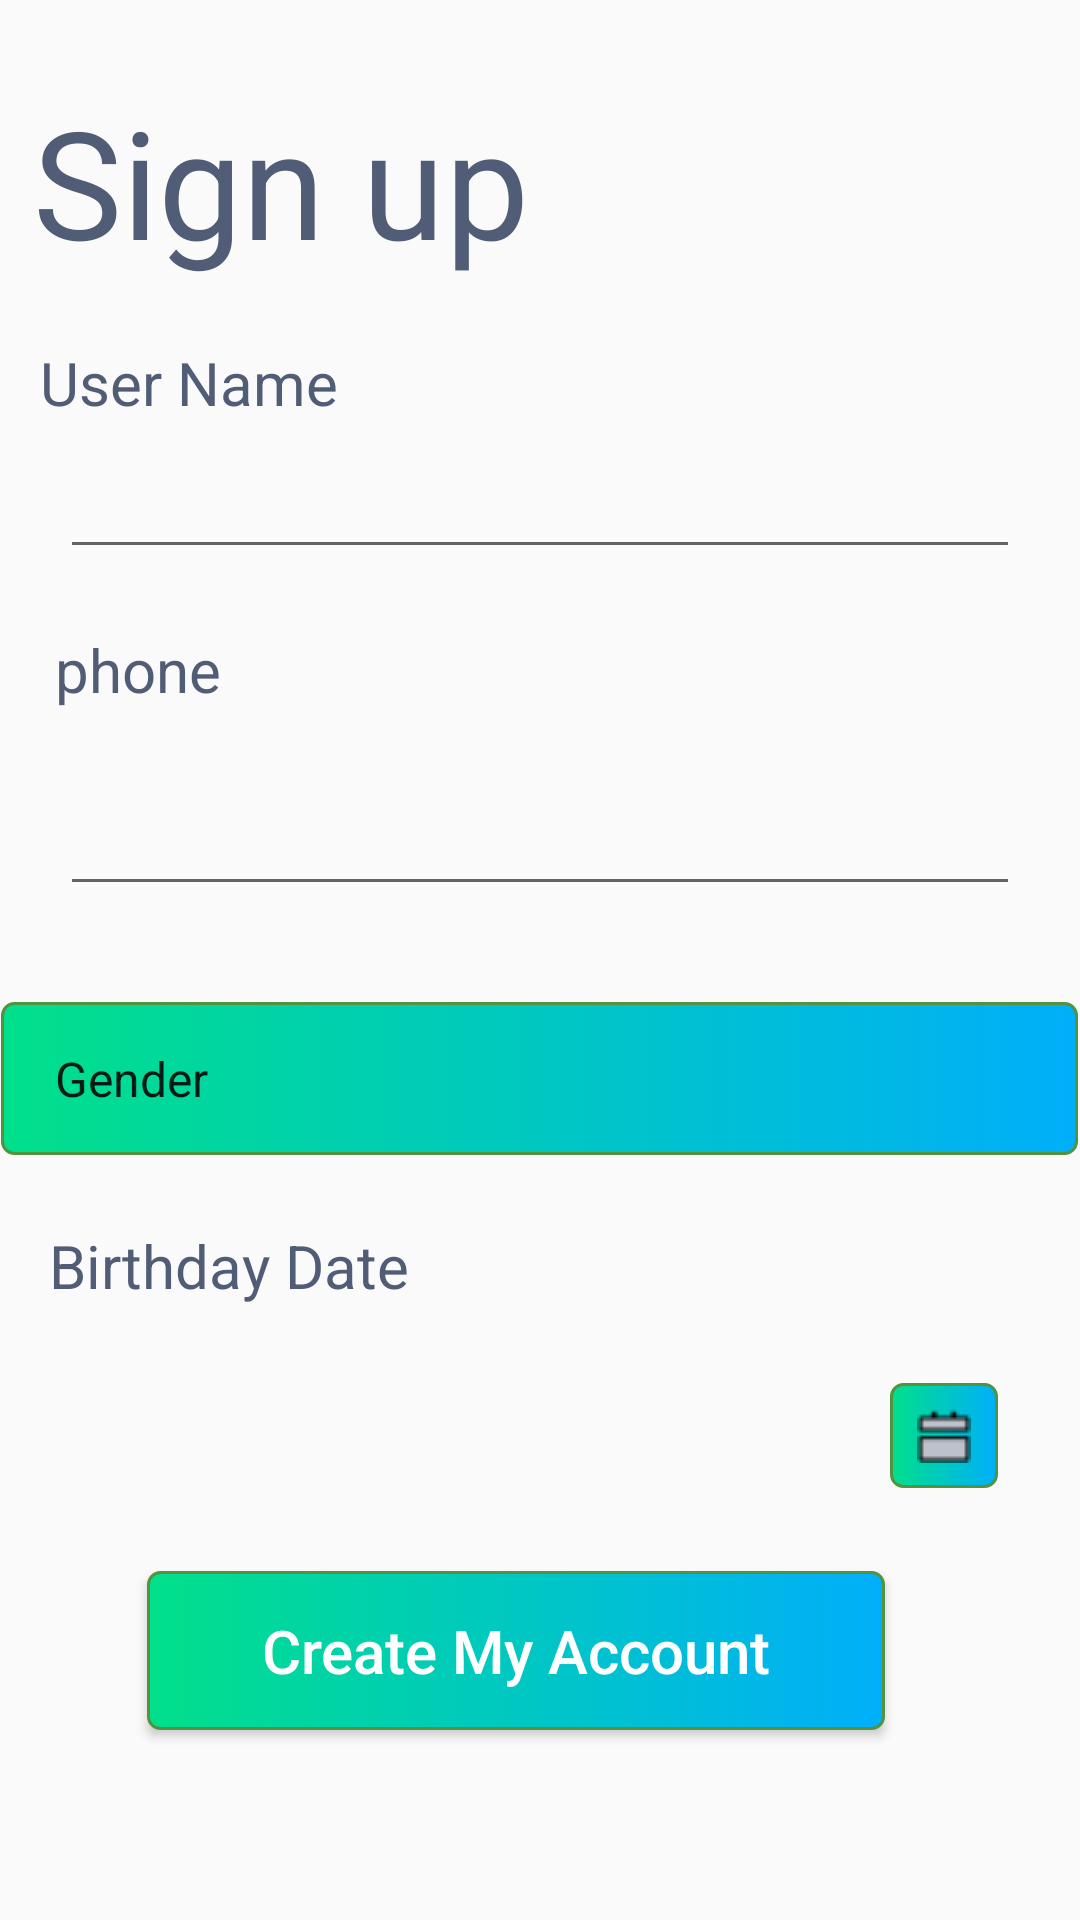

Point at icon controls on the screen. Image size 1080px x 1920px, points as (x,y).
calendarvector: (944,1435)
